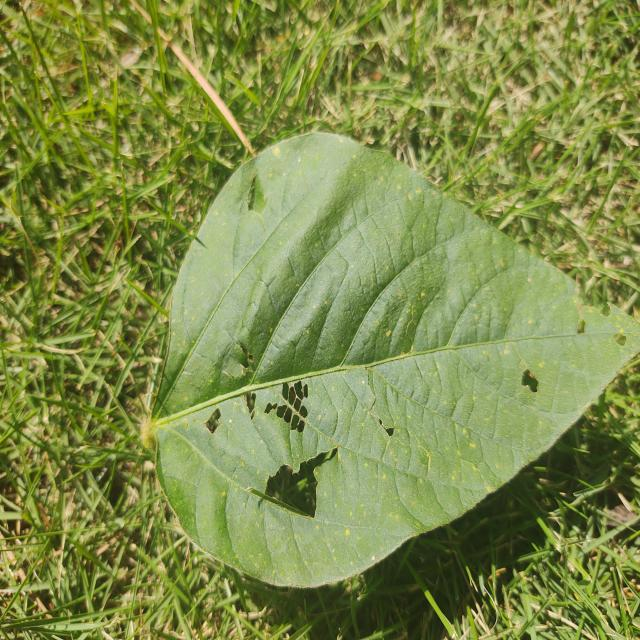Soybean: (149, 131, 640, 606)
downey_mildew: (156, 366, 390, 591), (273, 175, 419, 377), (153, 170, 269, 416), (242, 136, 367, 252), (418, 223, 519, 364), (435, 377, 543, 502), (322, 375, 415, 518), (513, 321, 638, 427), (158, 419, 238, 566), (348, 243, 434, 366), (392, 374, 475, 495), (345, 182, 428, 296), (379, 258, 475, 346), (297, 499, 391, 584), (243, 382, 309, 474), (226, 474, 283, 578), (499, 262, 574, 337), (149, 325, 204, 423), (308, 372, 364, 464), (364, 364, 415, 447), (431, 194, 490, 256), (578, 299, 638, 351), (345, 371, 385, 443), (233, 209, 269, 268), (468, 345, 500, 386)
